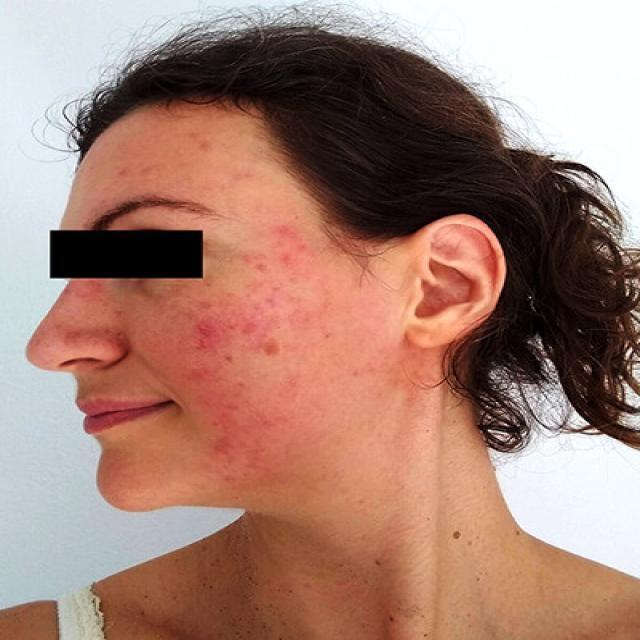Rosacea: (187, 214, 345, 484)
